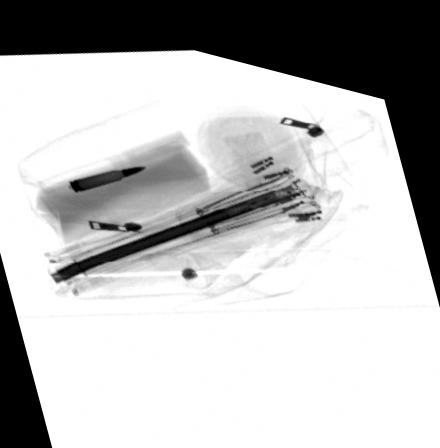Bullet: (66, 156, 147, 189)
